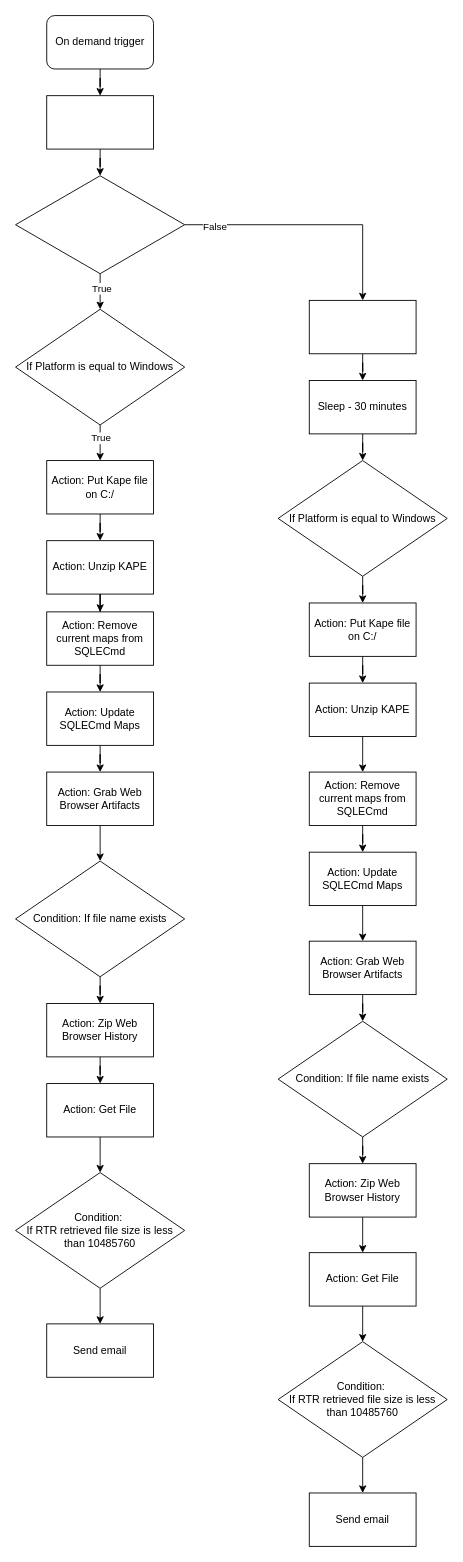
The diagram is 463 pixels wide and 1562 high, and some of its shapes have lost their labels. The centre of each missing label's shape, as x and y in pixels:
Action: Get Device details: point 100,122
Add host to host group: point 362,326
Condition: If host groups includes Enable run Commands: point 100,224
